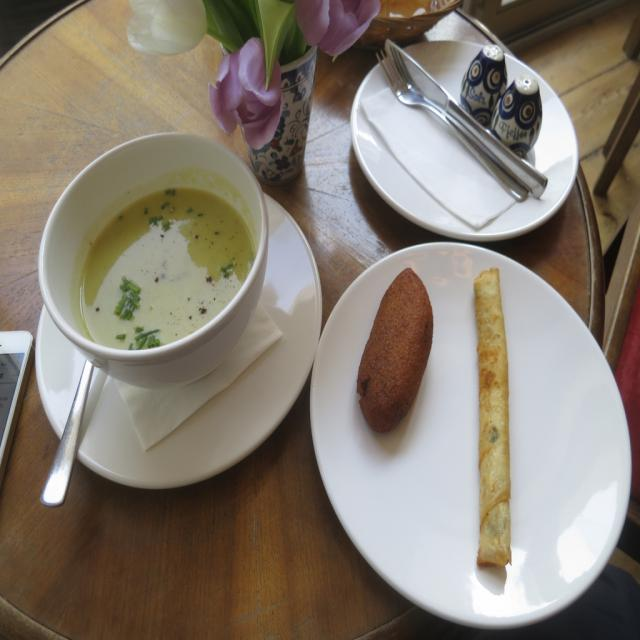non-organic waste: (302, 232, 622, 615), (342, 40, 580, 235)
